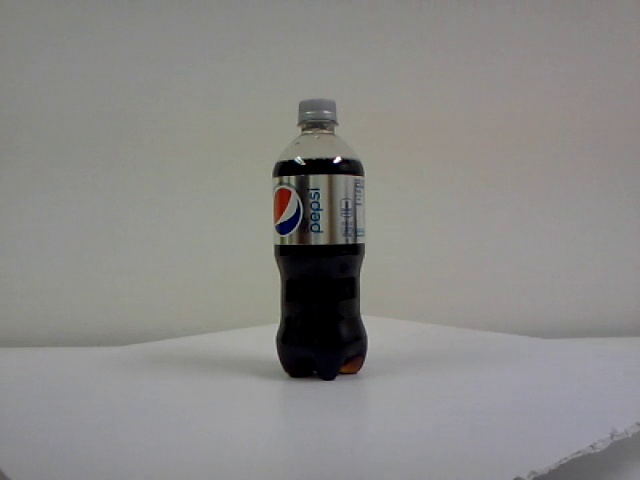botolplastik: (274, 99, 364, 379)
